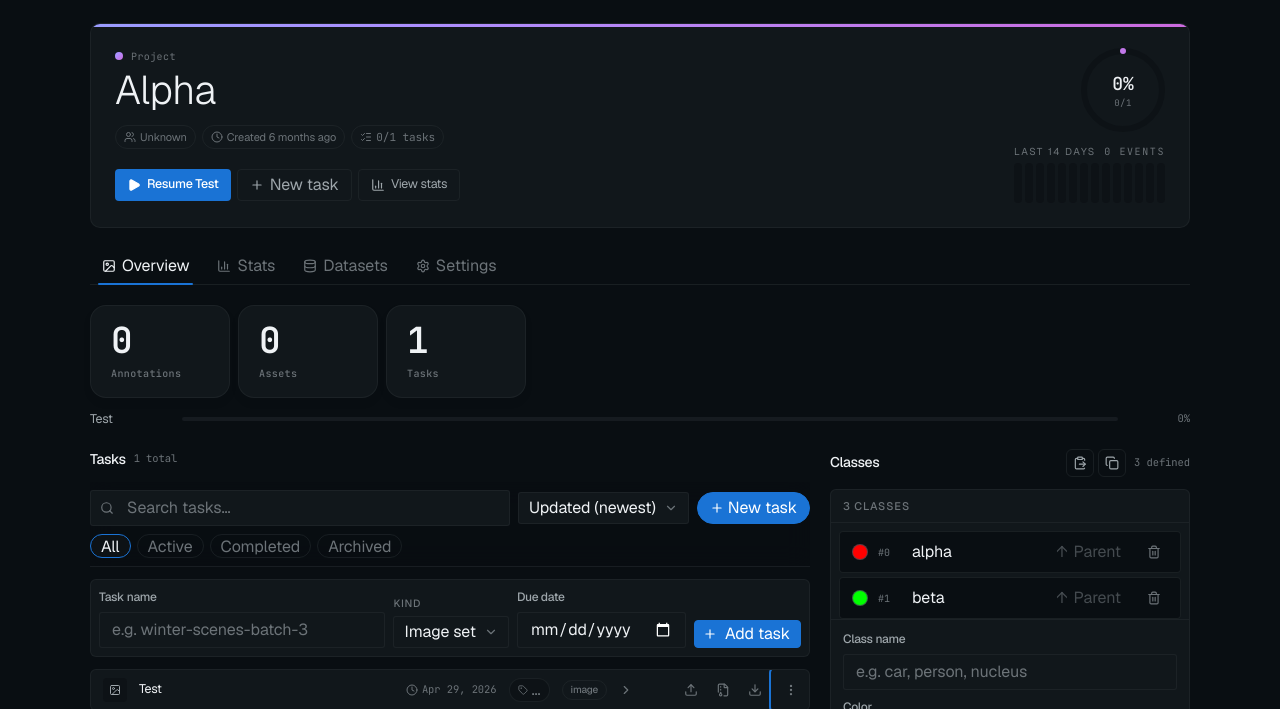
Scenario: ProjectDetailPage — Duplicate task class picker (v3.2 Issue 4) › renders class checkboxes pre-filled with the source task's allowed_class_ids
The width and height of the screenshot is (1280, 709).
Press Enter in the button with test id "project-detail-task-menu-trigger-t1", box [773,670,809,708]
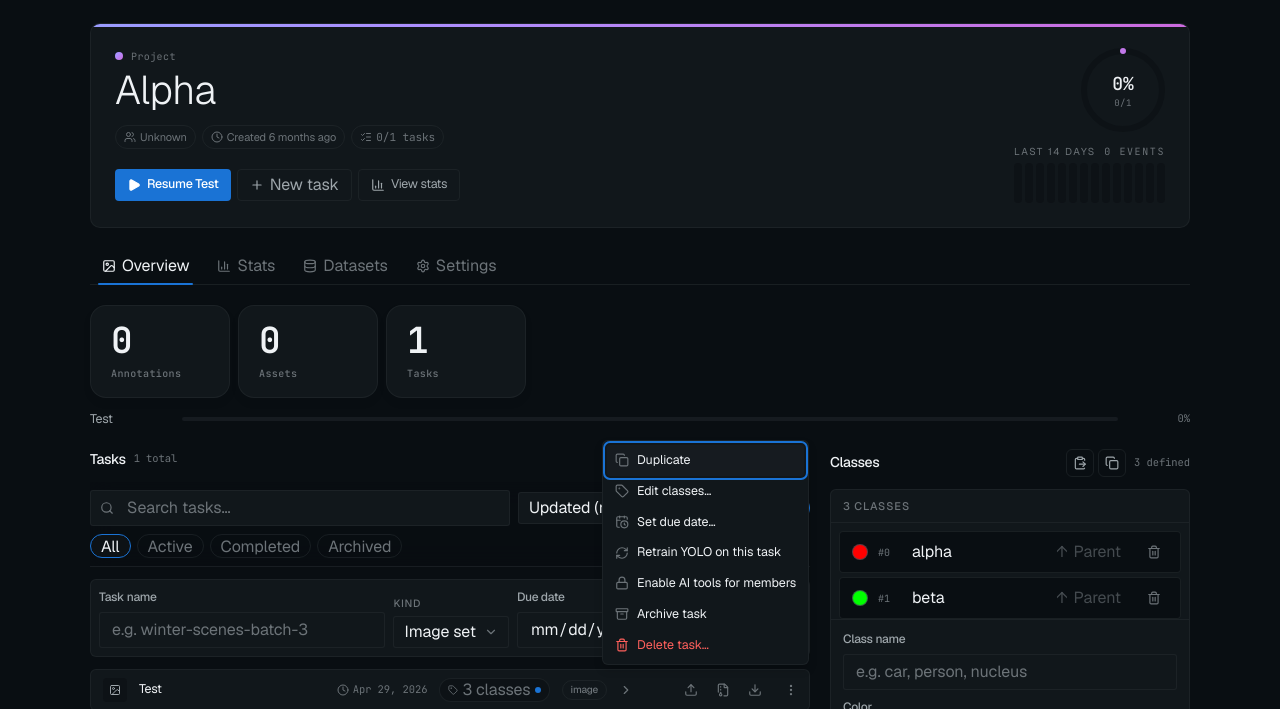
Click the menu item with test id "project-detail-task-duplicate-t1" at coordinates (706, 460), box [607,445,804,476]
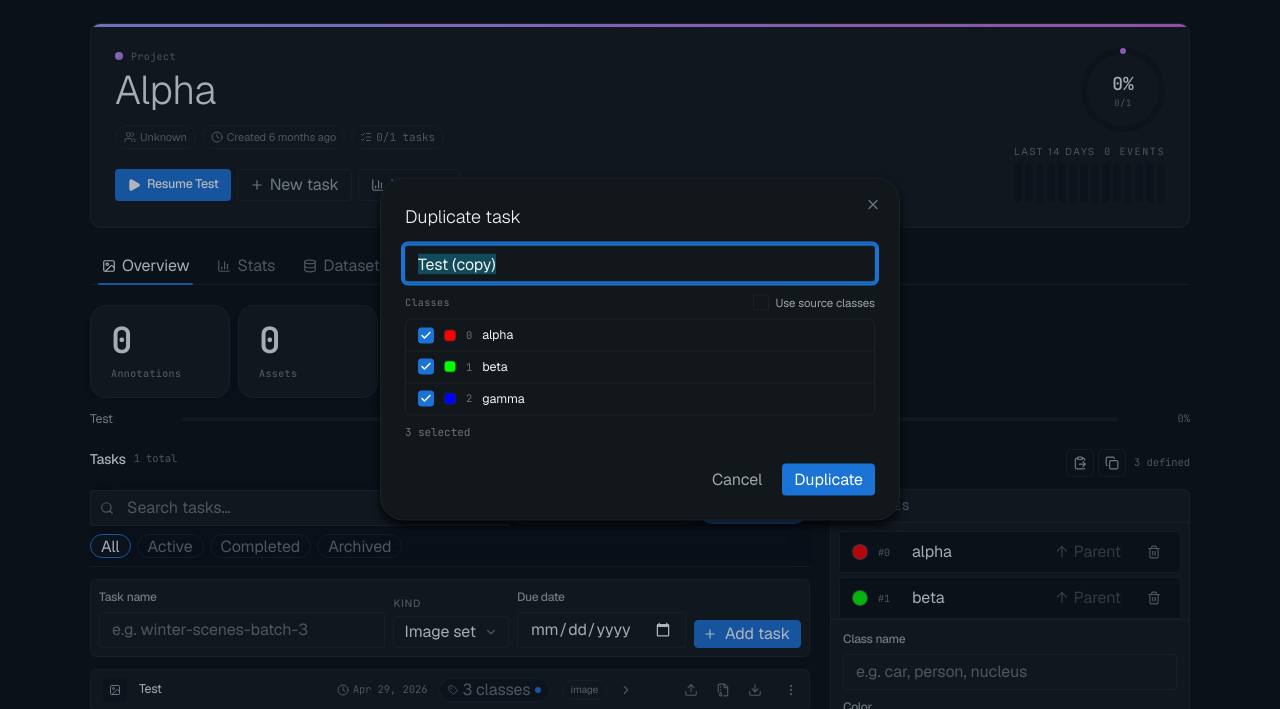
Expected: the checkbox with test id "duplicate-task-class-c1" is checked, [406,320,874,352]
Expected: the checkbox with test id "duplicate-task-class-c2" is checked, [406,352,874,383]
Expected: the checkbox with test id "duplicate-task-class-c3" is checked, [418,389,524,407]
